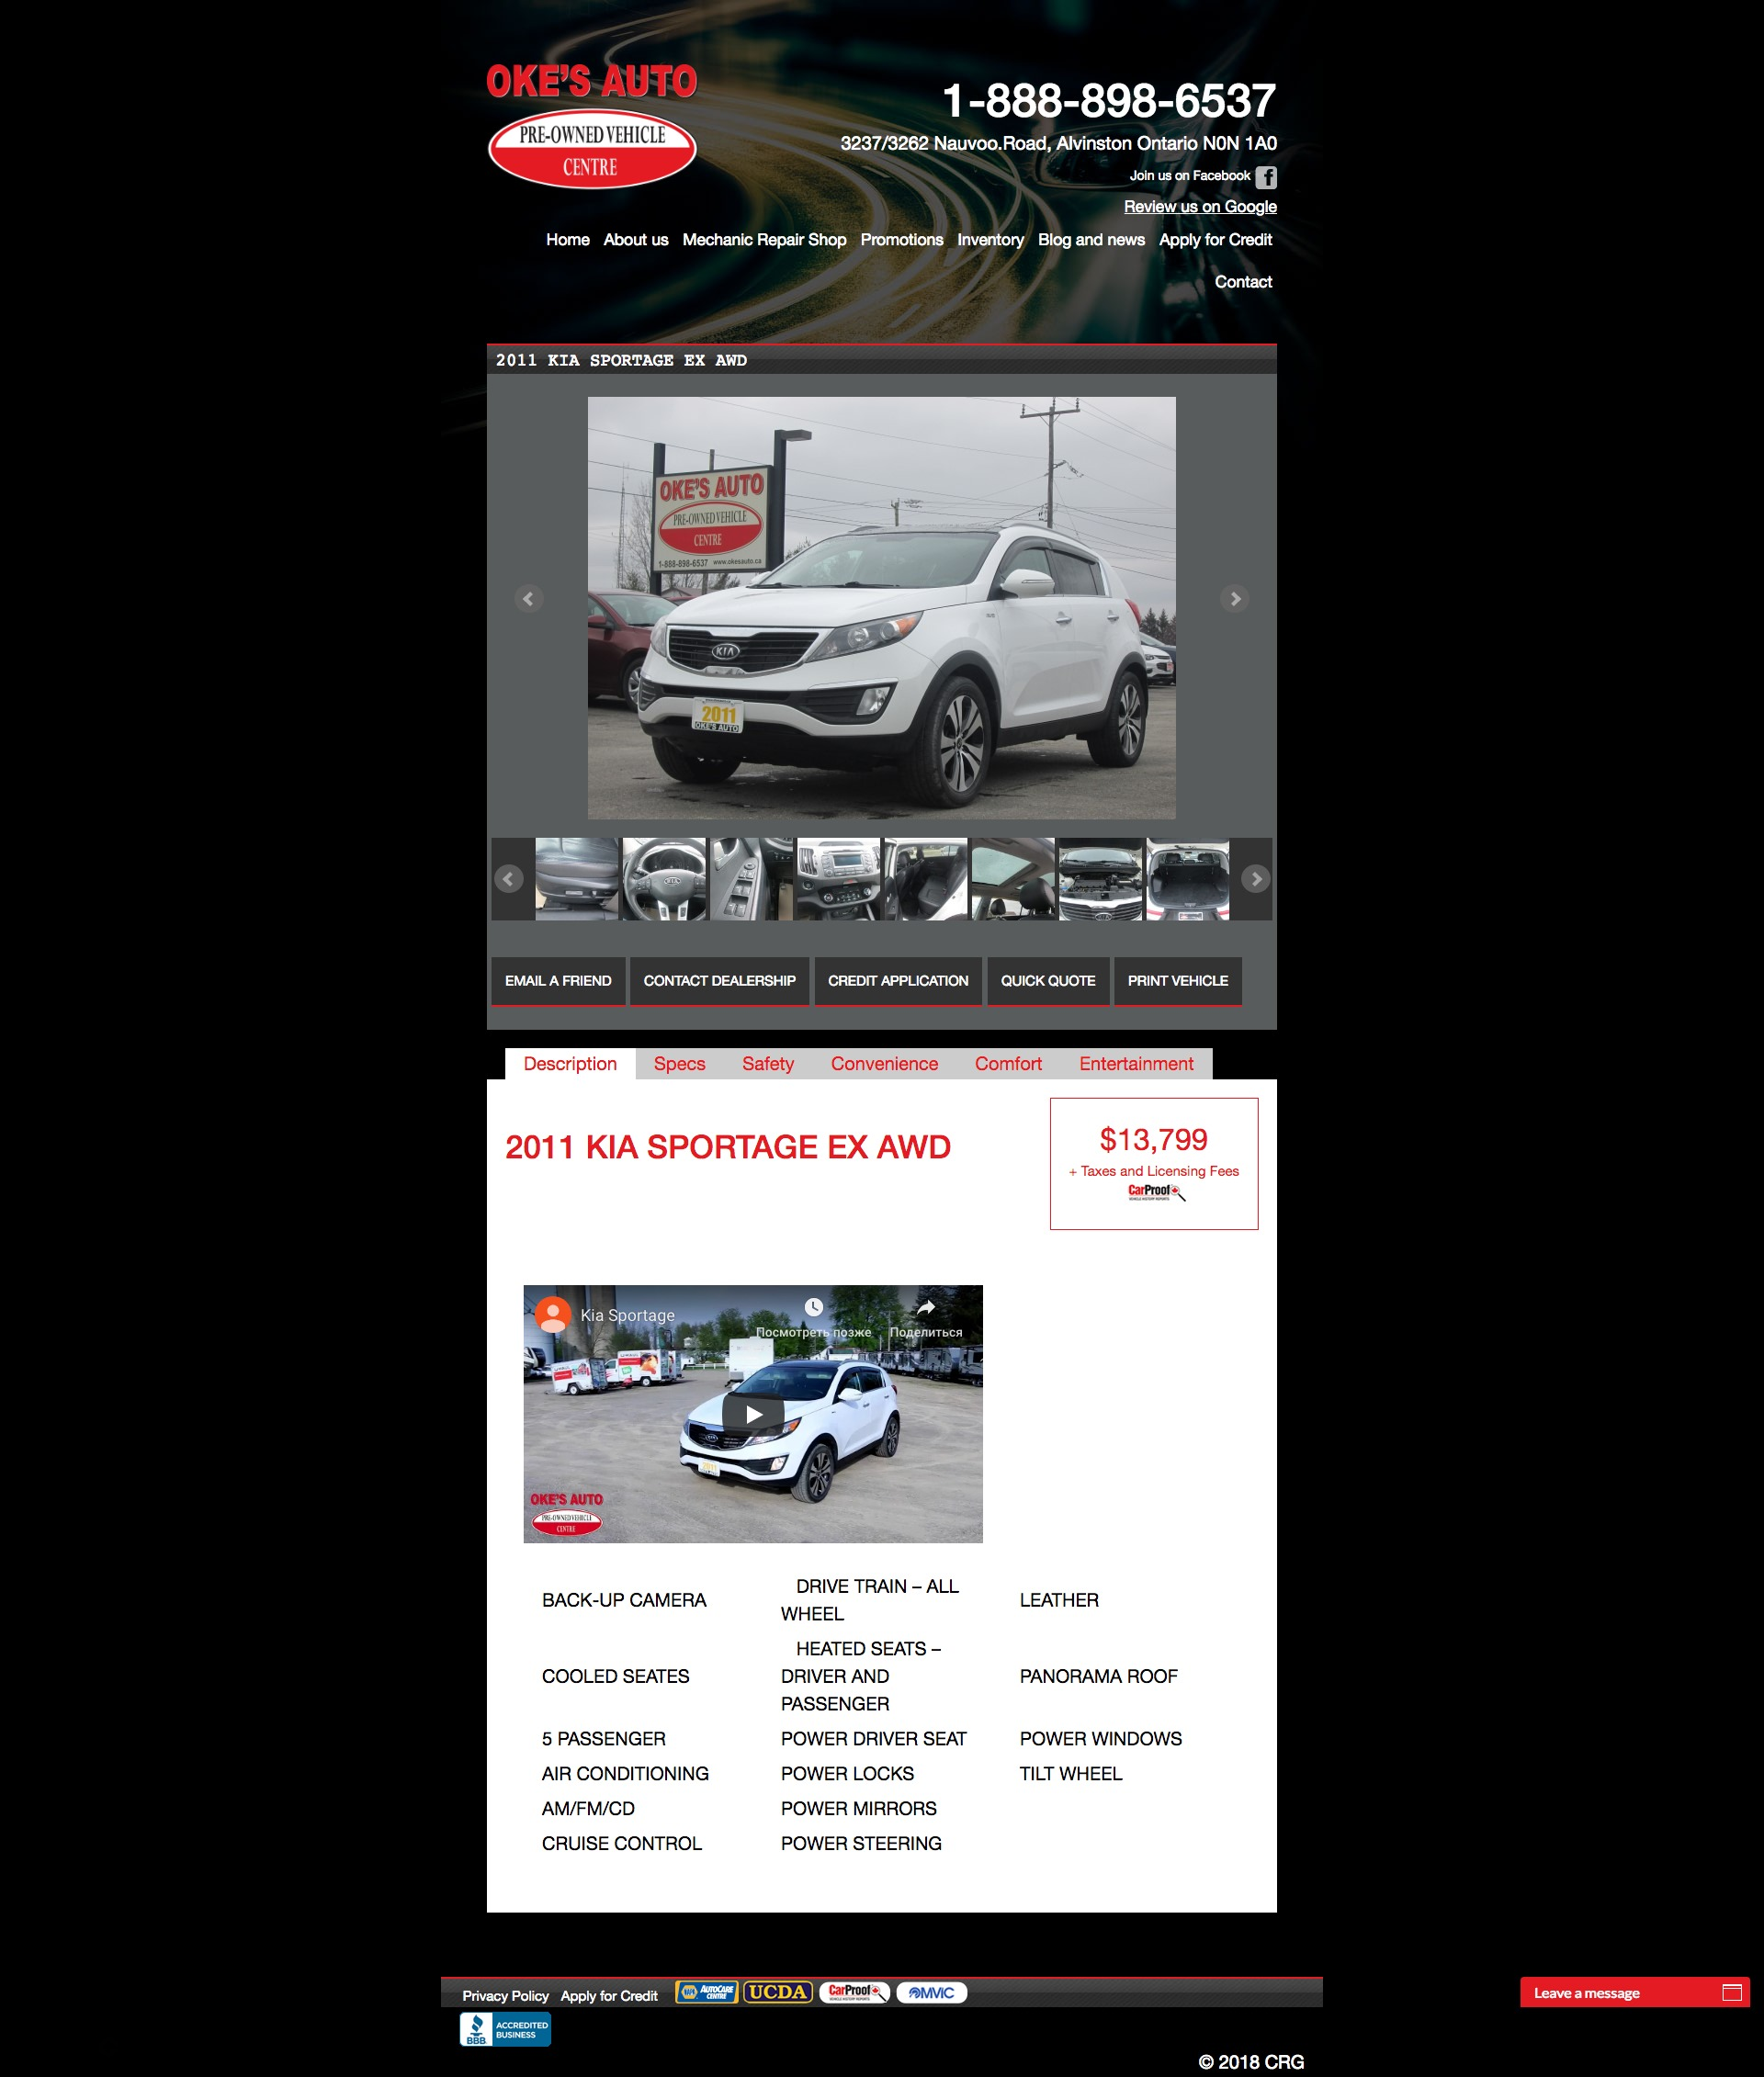car: (1241, 863, 1272, 894)
